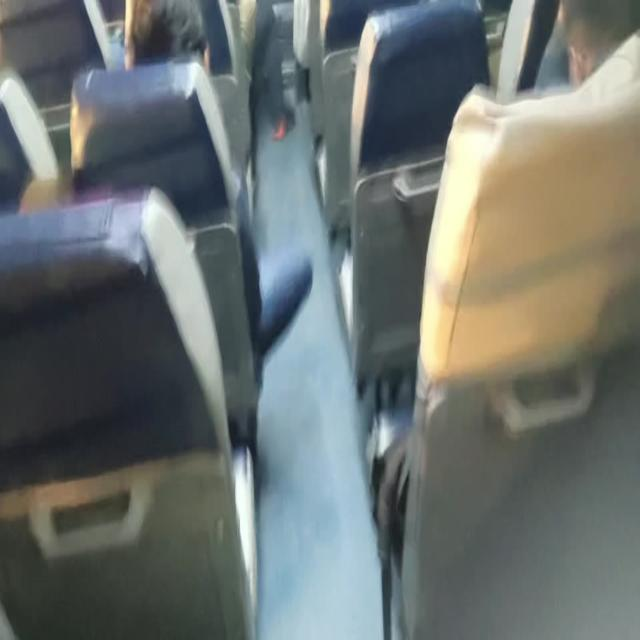person: (1, 1, 312, 637), (394, 1, 639, 636), (557, 0, 638, 89), (123, 0, 210, 74)
